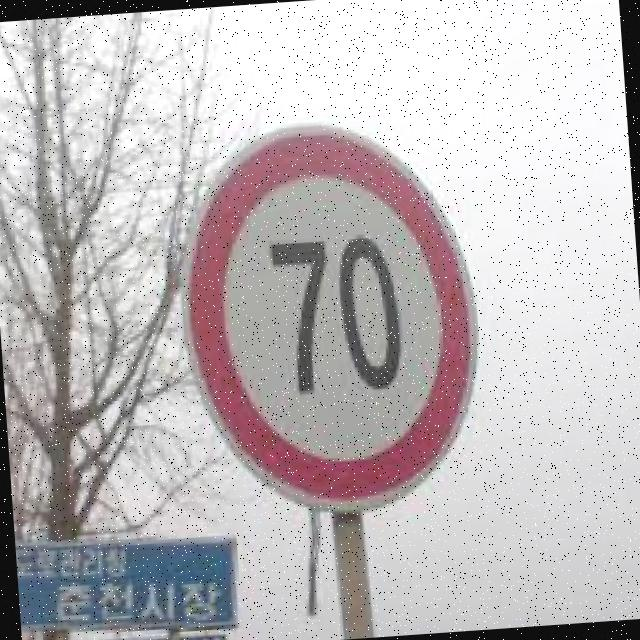Ograniczenie predkosci do 70: (174, 114, 490, 530)
